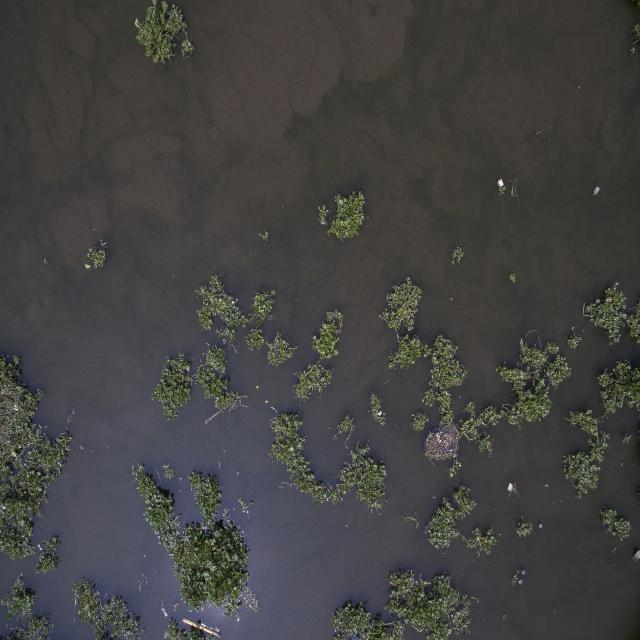plastic: (500, 168, 508, 197), (506, 477, 516, 494), (592, 185, 604, 199)
